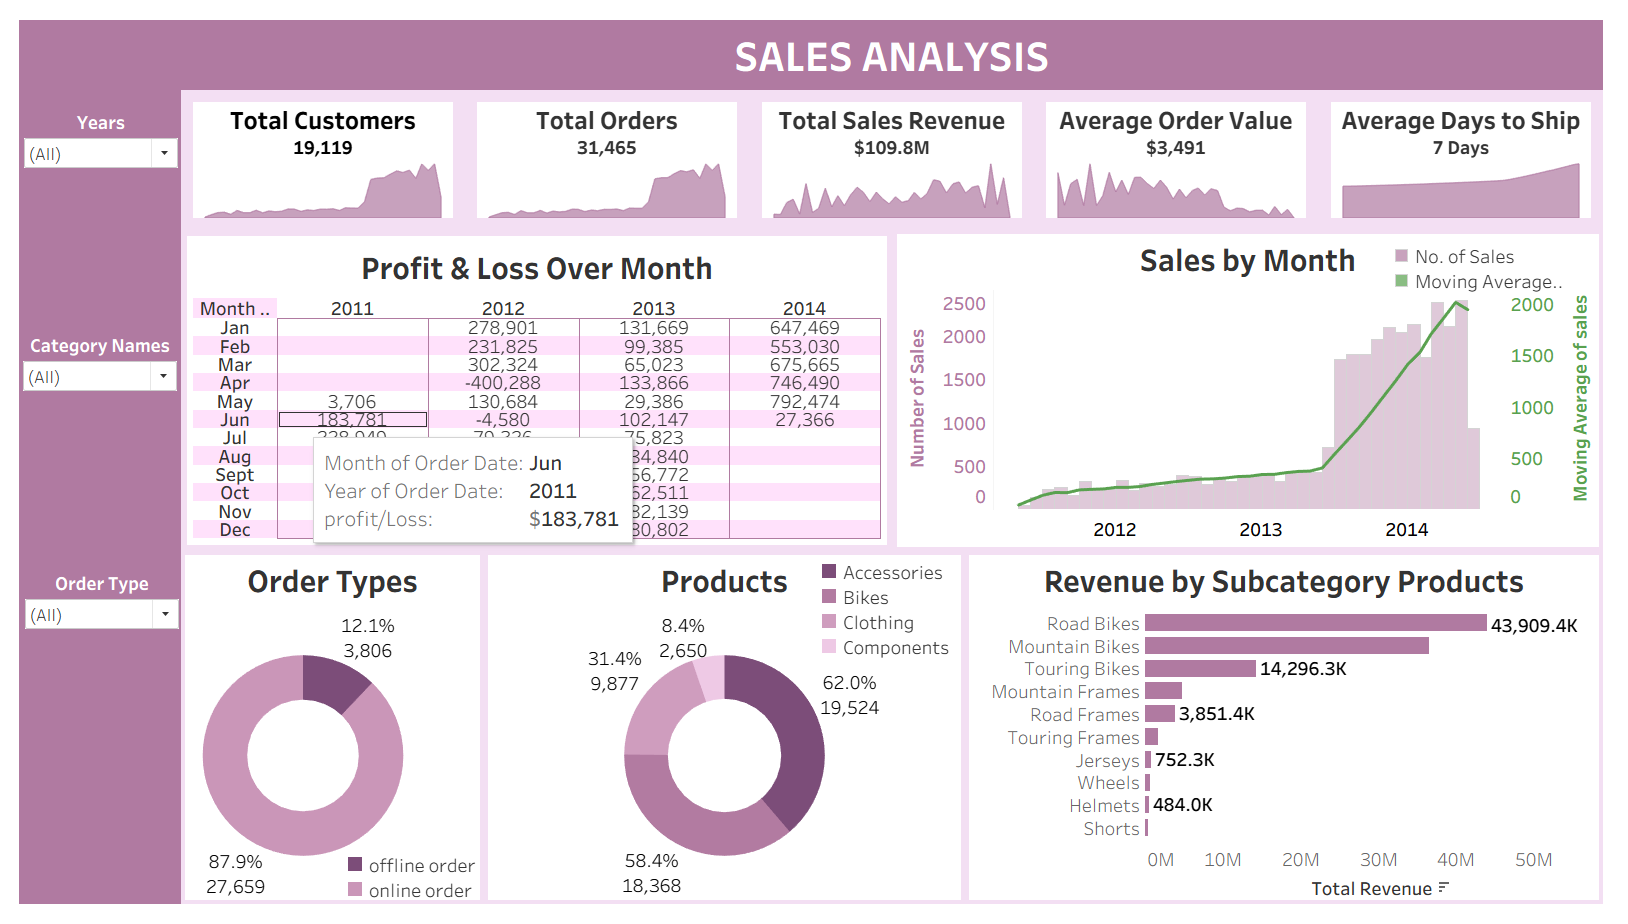

The dashboard page shown, as its layout file describes it:
{"tool":"tableau","page":{"name":"Dashboard 1","canvas":[1600,900],"ordinal":0},"visuals":[{"type":"text","box":[170,8,1422,70]},{"type":"worksheet","title":"Total Customers","mark":"Automatic","box":[170,78,284.4,71]},{"type":"worksheet","title":"Total Orders","mark":"Automatic","box":[454.4,78,284.4,71]},{"type":"worksheet","title":"Total Sales Revenue","mark":"Automatic","box":[738.8,78,284.4,71]},{"type":"worksheet","title":"Average Order Value","mark":"Automatic","box":[1023.2,78,284.4,71]},{"type":"worksheet","title":"Average days to ship","mark":"Automatic","box":[1307.6,78,284.4,71]},{"type":"filter","title":"Profit & Loss Over Month","param":"[federated.0pnoimc10l9u4v18zurkz1mb2onr].[yr:OrderDate:ok]","box":[10,97,160,62]},{"type":"worksheet","title":"Total customers graph","mark":"Area","rows":["CustomerID (Sales.Customer)"],"cols":["OrderDate"],"box":[170,149,284.5,69]},{"type":"worksheet","title":"Total orders graph","mark":"Area","rows":["SalesOrderID"],"cols":["OrderDate"],"box":[454.5,149,284.5,69]},{"type":"worksheet","title":"Total sales revenure graph","mark":"Area","rows":["SubTotal"],"cols":["OrderDate"],"box":[739,149,284.5,69]},{"type":"worksheet","title":"Average order value graph","mark":"Area","rows":["Calculation_1230890138086522882"],"cols":["OrderDate"],"box":[1023.5,149,284.5,69]},{"type":"worksheet","title":"Average days to ship graph","mark":"Area","rows":["SalesOrderID"],"cols":["OrderDate"],"box":[1308,149,284,69]},{"type":"worksheet","title":"Profit & Loss Over Month","mark":"Automatic","rows":["OrderDate"],"cols":["OrderDate"],"box":[170,218,712,321]},{"type":"worksheet","title":"Sales by Month","mark":"Bar","rows":["SalesOrderID"],"cols":["OrderDate"],"box":[882,218,710,321]},{"type":"legend","title":"Sales by Month","param":"[federated.0pnoimc10l9u4v18zurkz1mb2onr].[:Measure Names]","box":[1378,231,180,76]},{"type":"filter","title":"Revenue by Subcategory Products","param":"[federated.0pnoimc10l9u4v18zurkz1mb2onr].[none:Name (Production.ProductCategory)","box":[9,320,160,62]},{"type":"worksheet","title":"Order Types","mark":"Pie","cols":["Calculation_819092247600664591","Calculation_819092247600664591"],"box":[170,539,303,353]},{"type":"worksheet","title":"Products","mark":"Pie","cols":["Calculation_819092247600664591","Calculation_819092247600664591"],"box":[473,539,481,353]},{"type":"worksheet","title":"Revenue by Subcategory Products","mark":"Bar","rows":["Name (Production.ProductSubcategory)"],"cols":["LineTotal"],"box":[954,539,638,353]},{"type":"legend","title":"Products","param":"[federated.0pnoimc10l9u4v18zurkz1mb2onr].[none:Name (Production.ProductCategory)","box":[806,547,142,107]},{"type":"filter","title":"Order Types","param":"[federated.0pnoimc10l9u4v18zurkz1mb2onr].[none:Calculation_1230890138108370948:n","box":[11,558,160,62]}]}

Visuals, with their boxes in screenshot pixels (x1, y1, x2, y2), scaled from the page's 1600x900 canvas onto the 1628x924 screenshot:
text: bbox=(173, 8, 1620, 80)
"Total Customers" worksheet: bbox=(173, 80, 462, 153)
"Total Orders" worksheet: bbox=(462, 80, 752, 153)
"Total Sales Revenue" worksheet: bbox=(752, 80, 1041, 153)
"Average Order Value" worksheet: bbox=(1041, 80, 1330, 153)
"Average days to ship" worksheet: bbox=(1330, 80, 1620, 153)
"Profit & Loss Over Month" filter: bbox=(10, 100, 173, 163)
"Total customers graph" worksheet (Area marks): bbox=(173, 153, 462, 224)
"Total orders graph" worksheet (Area marks): bbox=(462, 153, 752, 224)
"Total sales revenure graph" worksheet (Area marks): bbox=(752, 153, 1041, 224)
"Average order value graph" worksheet (Area marks): bbox=(1041, 153, 1331, 224)
"Average days to ship graph" worksheet (Area marks): bbox=(1331, 153, 1620, 224)
"Profit & Loss Over Month" worksheet: bbox=(173, 224, 897, 553)
"Sales by Month" worksheet (Bar marks): bbox=(897, 224, 1620, 553)
"Sales by Month" legend: bbox=(1402, 237, 1585, 315)
"Revenue by Subcategory Products" filter: bbox=(9, 329, 172, 392)
"Order Types" worksheet (Pie marks): bbox=(173, 553, 481, 916)
"Products" worksheet (Pie marks): bbox=(481, 553, 971, 916)
"Revenue by Subcategory Products" worksheet (Bar marks): bbox=(971, 553, 1620, 916)
"Products" legend: bbox=(820, 562, 965, 671)
"Order Types" filter: bbox=(11, 573, 174, 637)
